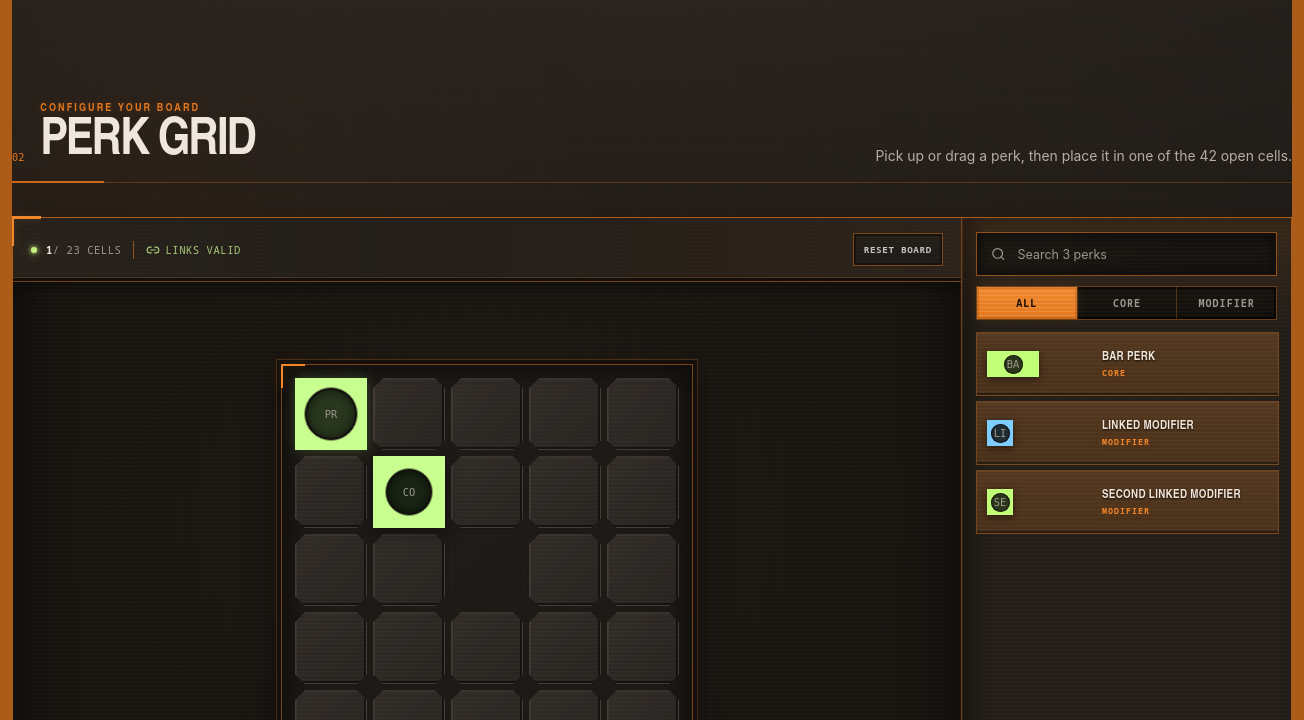
Scenario: PerkWorkbench grid presentation › keeps names off the bricks and presents name plus info in a hover tooltip
This screenshot has width=1304, height=720.
Hover over the button with aria-label "Core Perk, 1×1, at B2" at (409, 492), box 373,456 -> 445,528
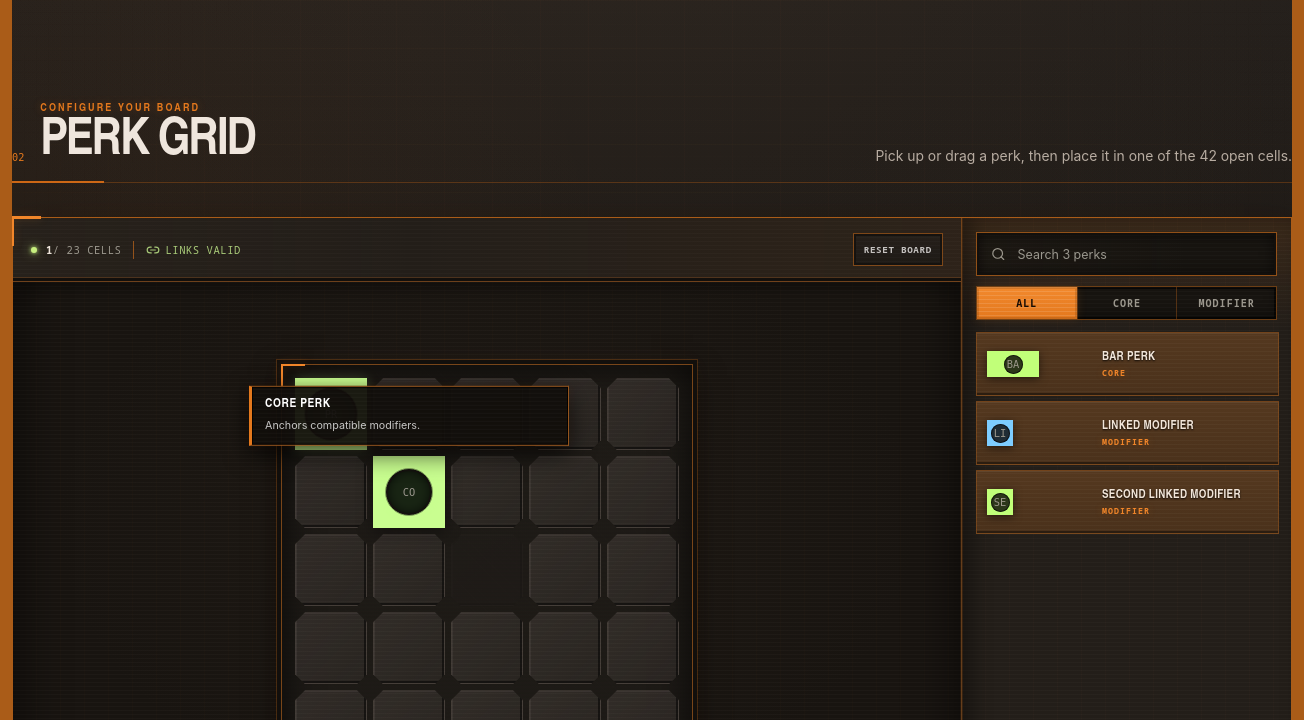
Expected: the tooltip shows "Core Perk", 265,398 -> 331,411
Expected: the tooltip shows "Anchors compatible modifiers.", 265,419 -> 420,432
Move the pointer off the button with aria-label "Core Perk, 1×1, at B2", box 373,456 -> 445,528
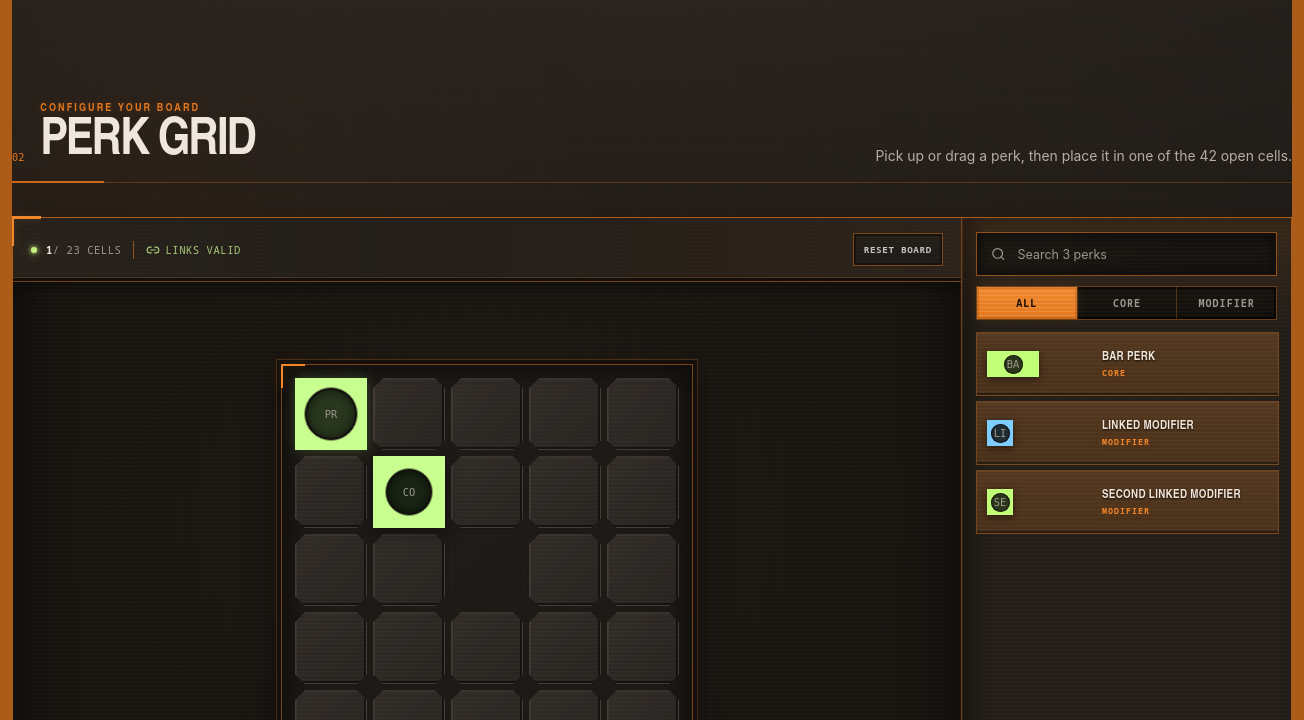
Expected: the tooltip "Core Perk Anchors compatible modifiers." is gone
Focus the button with aria-label "primary ability: Primary Ability" at (331, 414), box 295,378 -> 367,450
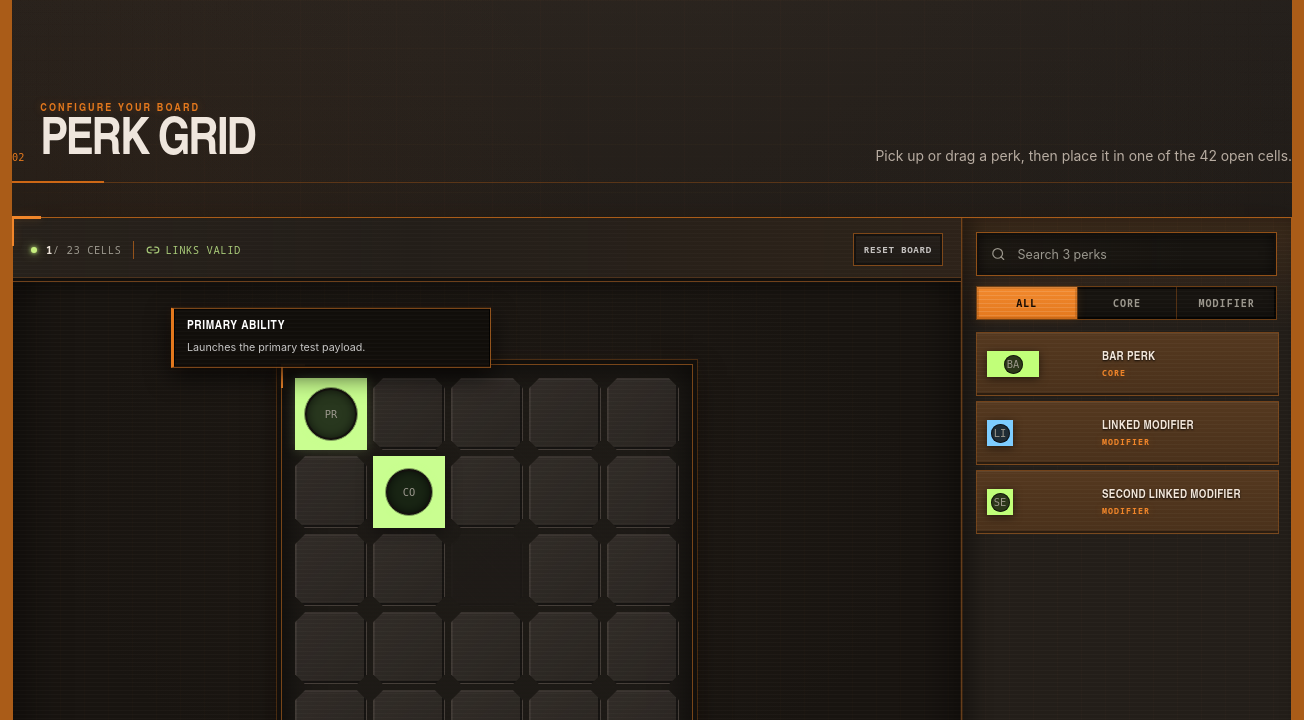
Expected: the tooltip shows "Launches the primary test payload.", 187,341 -> 365,354
Leave the button with aria-label "primary ability: Primary Ability", box 295,378 -> 367,450
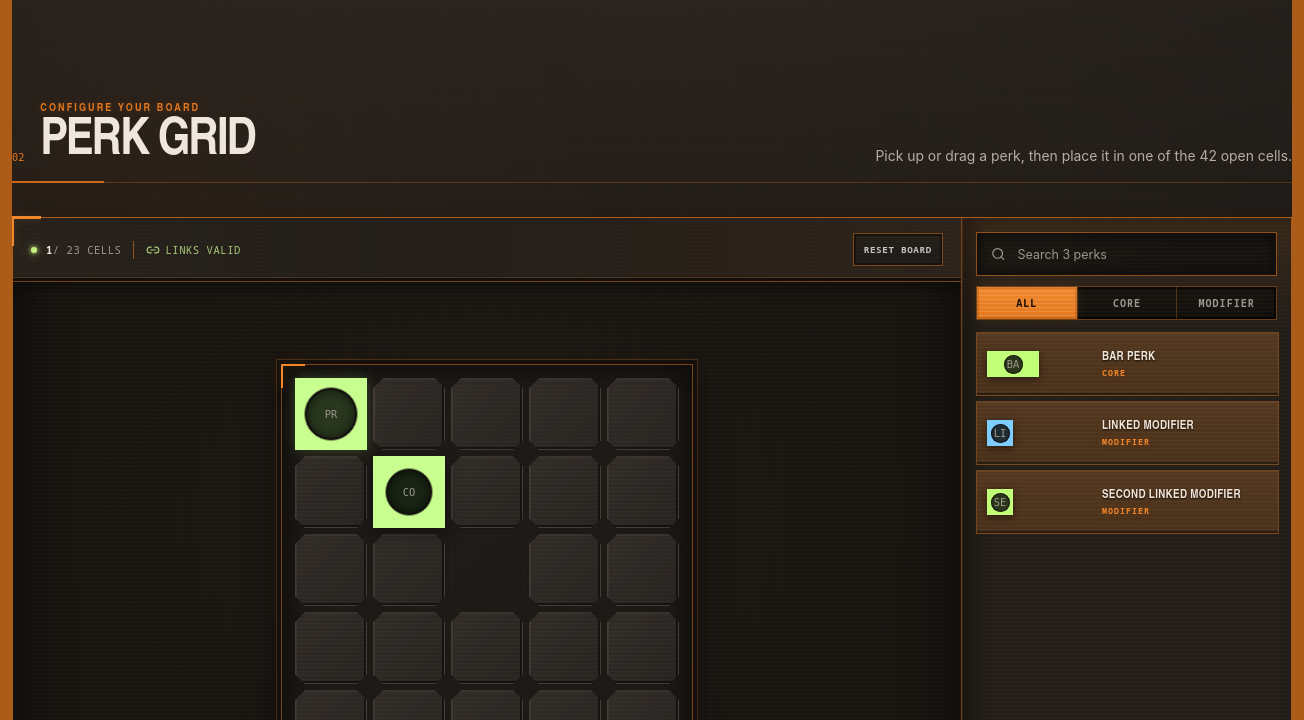
Expected: the tooltip "Primary Ability Launches the primary test payload." is gone
